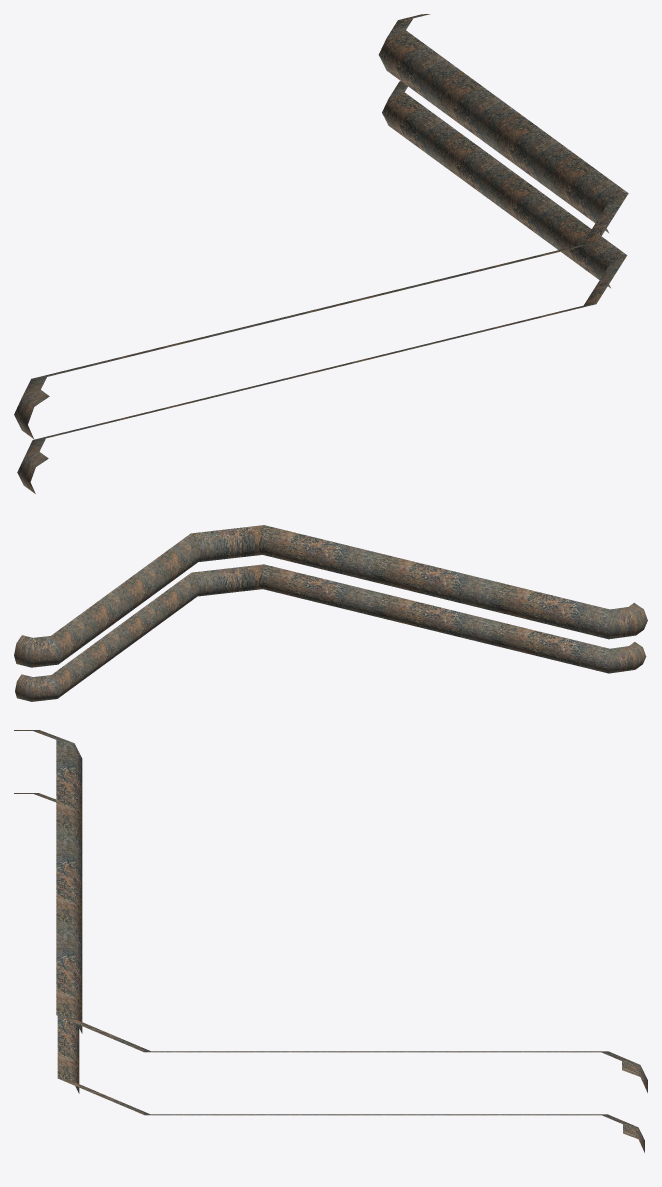
The model's file is M11Z2_SCUDHouse_Pipes_A.glb.
The picture shows the model from 3 angles, top to bottom: view 1: azimuth 30°, elevation 25°; view 2: azimuth 150°, elevation 25°; view 3: azimuth 270°, elevation 25°; orthographic projection. The views are drawn at different scales.
Parts seen in each view (by area): view 1: M11Z2_SCUDHOUSE_PIPES_A; view 2: M11Z2_SCUDHOUSE_PIPES_A; view 3: M11Z2_SCUDHOUSE_PIPES_A.
Part boxes in pixels (<box>): M11Z2_SCUDHOUSE_PIPES_A: <box>14,14,628,493</box>; M11Z2_SCUDHOUSE_PIPES_A: <box>14,525,647,701</box>; M11Z2_SCUDHOUSE_PIPES_A: <box>14,730,647,1152</box>.
Size of the model in its own units: 4.77 by 0.653 by 3.65.
Materials: 1 (1 with a texture image).
